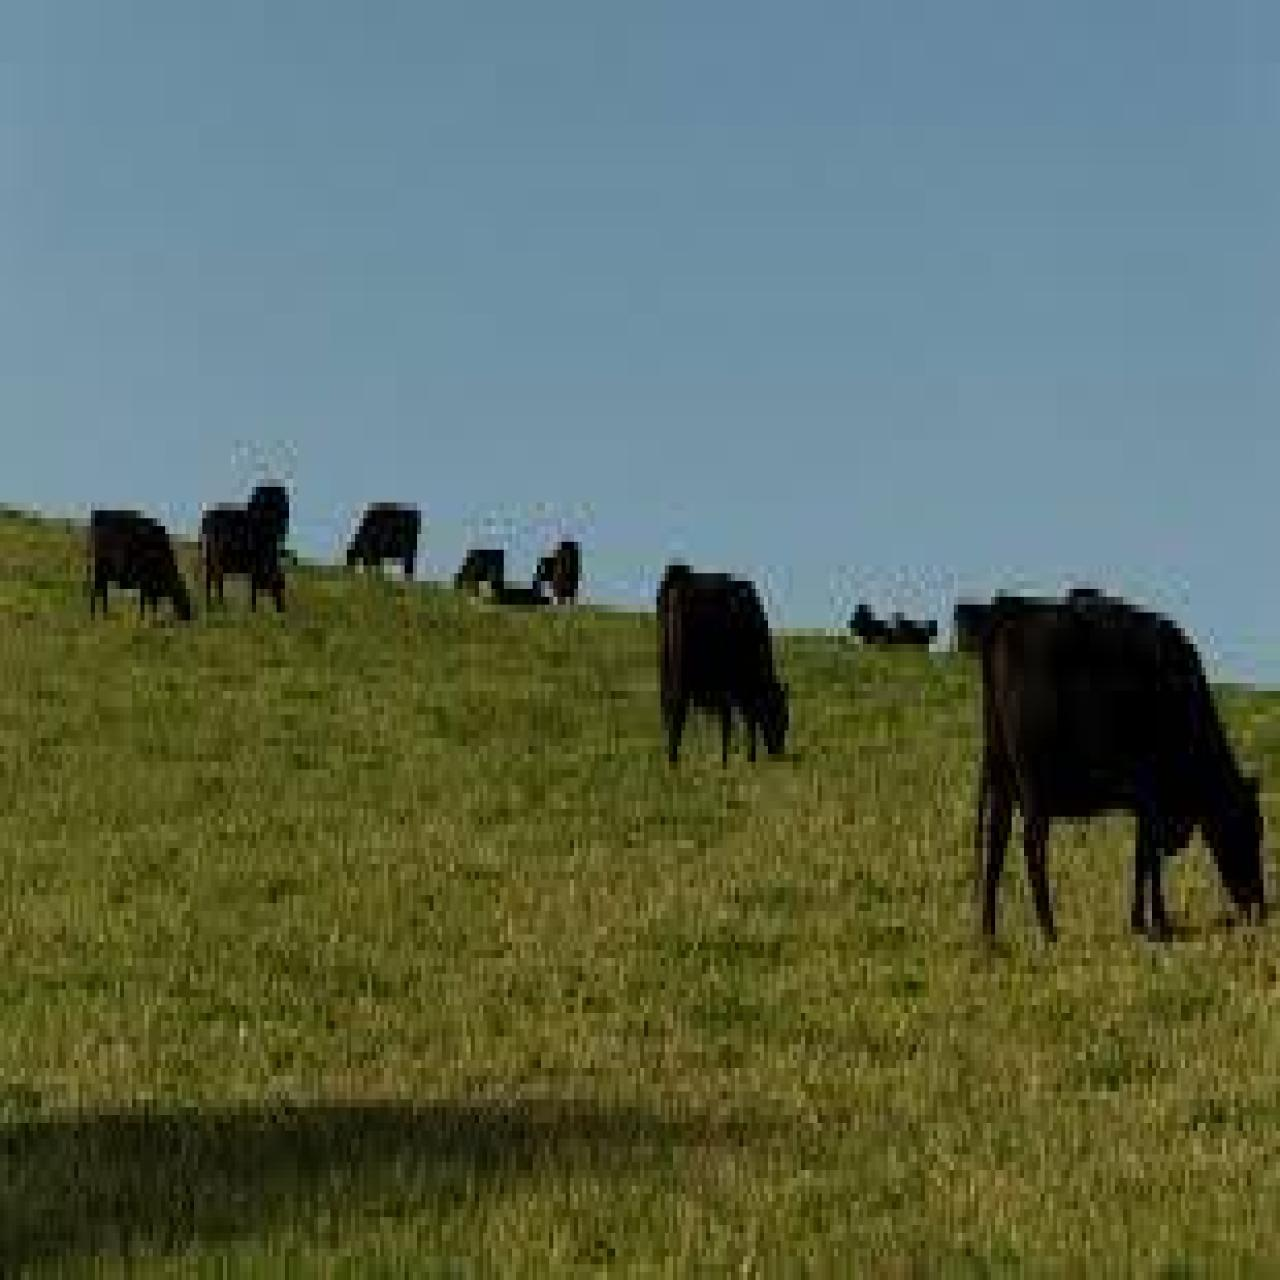cow: (972, 581, 1269, 942), (654, 553, 795, 765), (84, 503, 196, 628), (192, 503, 291, 620), (342, 495, 425, 588), (846, 600, 941, 655), (535, 530, 584, 608), (247, 479, 293, 550), (452, 542, 510, 597), (952, 593, 989, 656)
